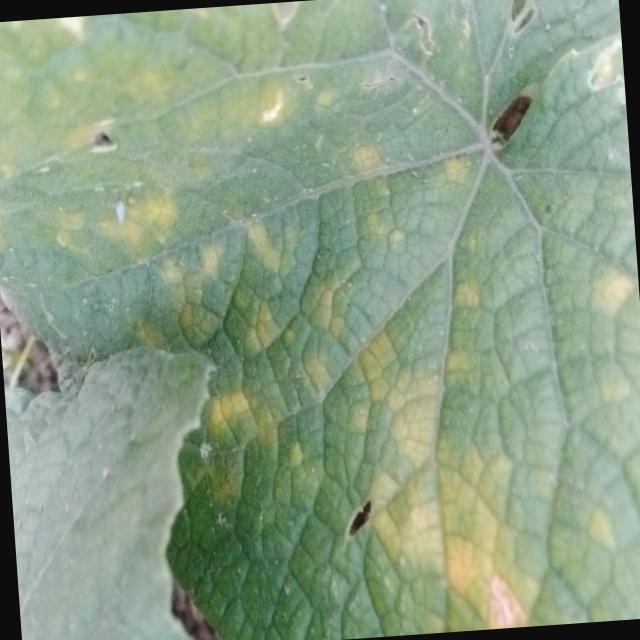cucumber_downy: (183, 0, 640, 640), (0, 7, 233, 357)
